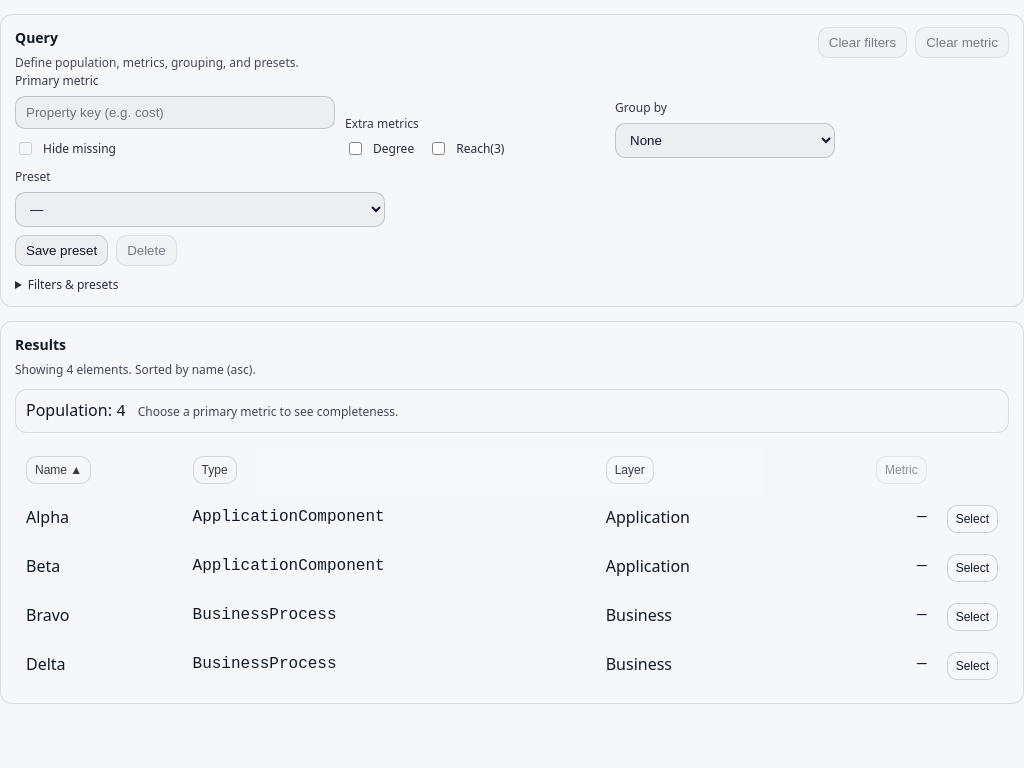
PortfolioAnalysisView grouping and rollups › groups by Type and shows count/sum/avg/missing totals for the primary metric
This screenshot has width=1024, height=768.
Type "cost" into the field labelled "Primary metric".
click(175, 112); type("cost")  # box [15,96,335,129]
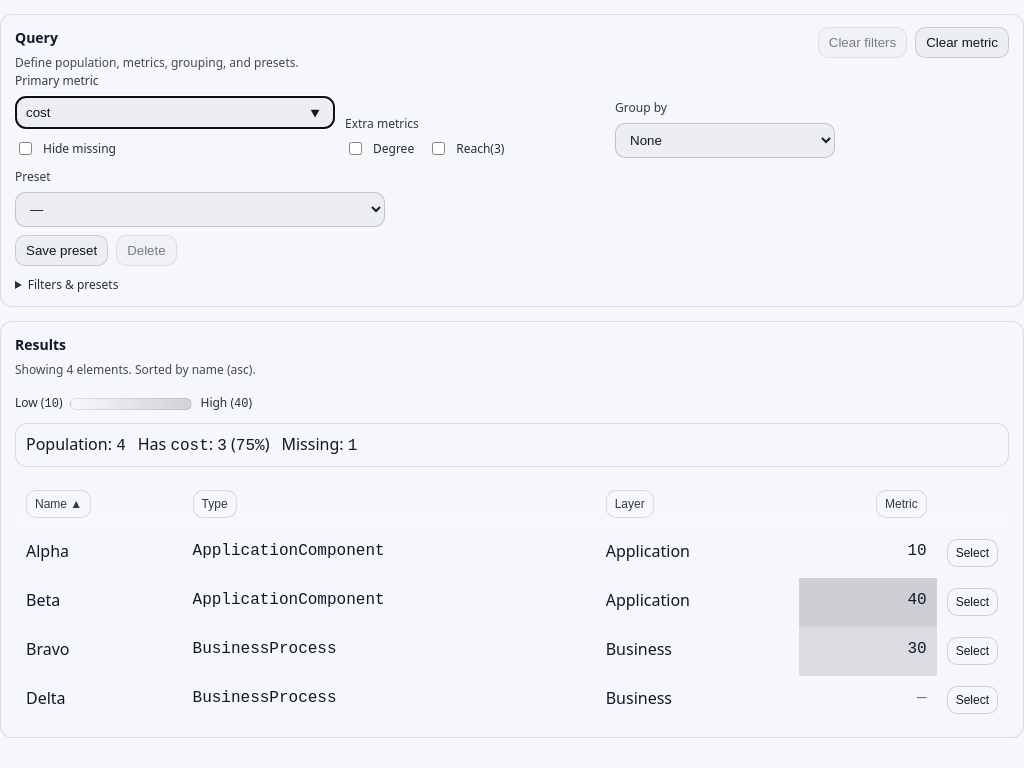
Select "Type" in the dropdown labelled "Group by" at (725, 140), box [615,123,835,158]
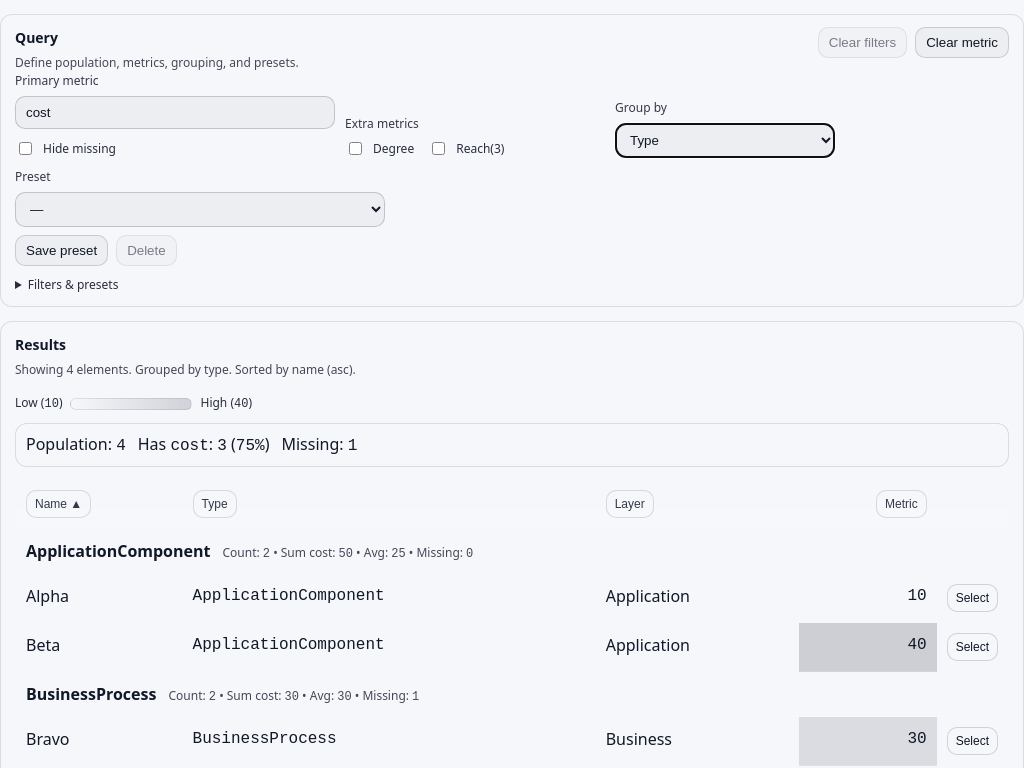
Expected: the row with test id "portfolio-group-type-ApplicationComponent" shows "ApplicationComponent", [26,540,210,562]
Expected: the row with test id "portfolio-group-type-ApplicationComponent" shows "Count: 2", [16,528,1008,574]
Expected: the row with test id "portfolio-group-type-ApplicationComponent" shows "Sum cost: 50", [16,528,1008,574]
